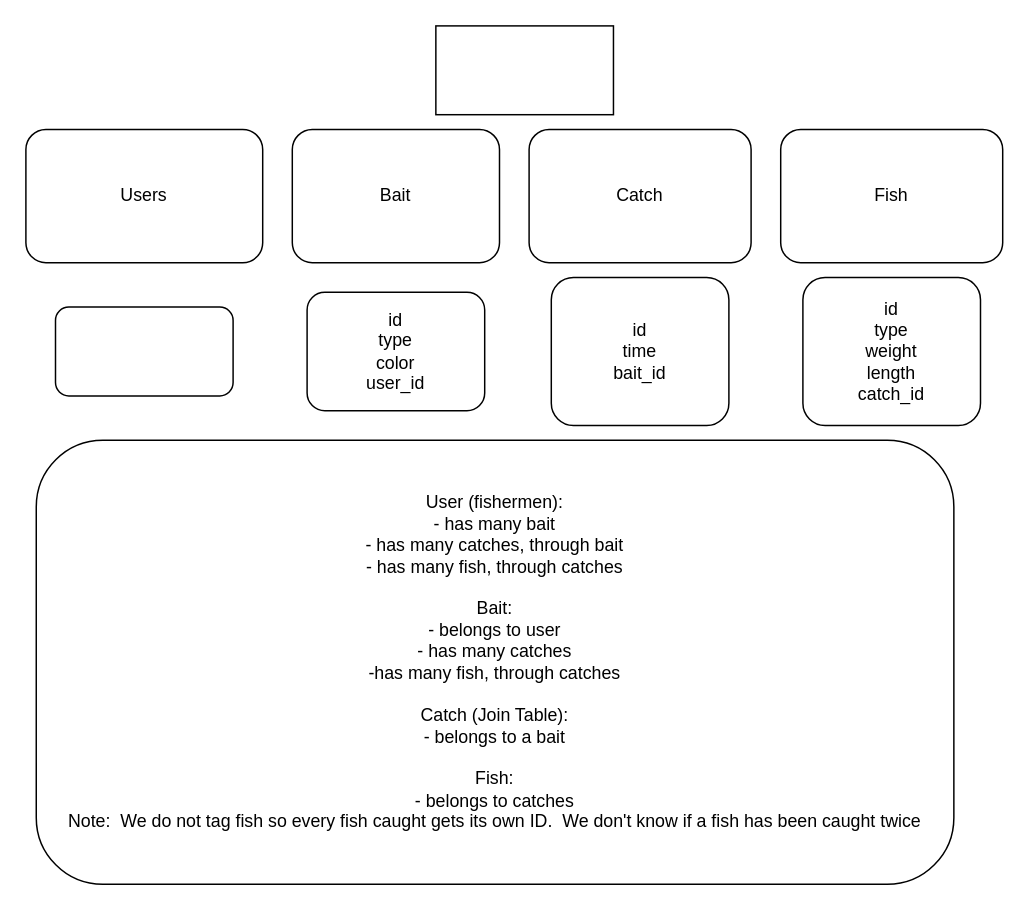
Some shapes in this 1029 by 910 pixel diagram are drawn without their labels. Here are the shapes that lost their labels. From the top down, the centre of each, then its label:
the point at 523,69: Bait Categorizer
the point at 143,351: id name hometown age
